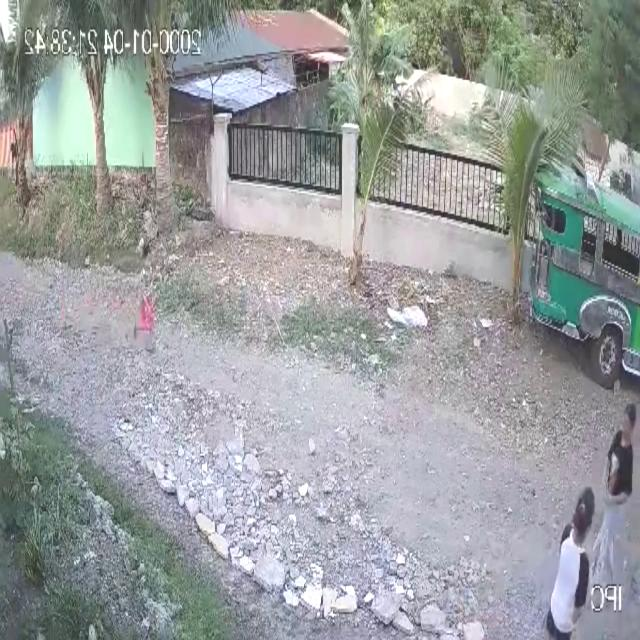running: (115, 239, 158, 362)
walking: (584, 395, 640, 601), (538, 481, 601, 640), (10, 126, 20, 190)
